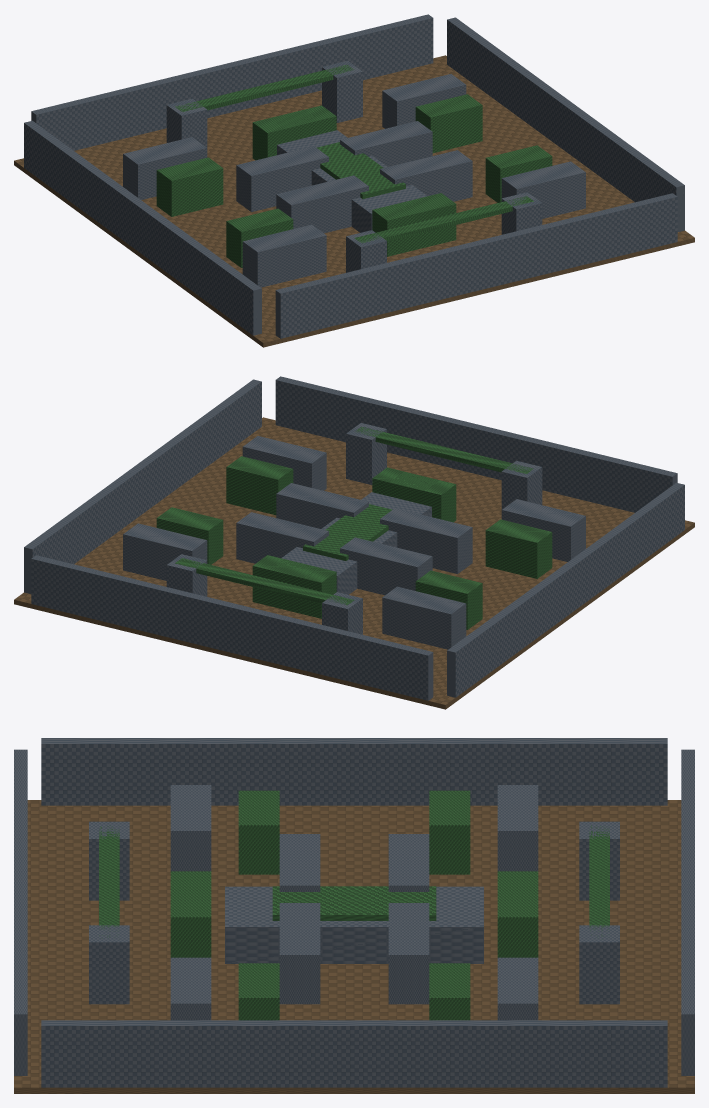
Rendered from fps_stage04.gltf.
3 renders of one model, top to bottom at view 1: azimuth 30°, elevation 25°; view 2: azimuth 150°, elevation 25°; view 3: azimuth 270°, elevation 25°, orthographic. The views are drawn at different scales.
Parts seen in each view (by area): view 1: Floor, SouthSeaWall, NorthSeaWall, WestSeaWall, EastSeaWall, Container_4_R, Container_5_R, Container_6_R, Container_2_R, Container_4_L, Container_6_L, Container_2_L (+19 smaller); view 2: Floor, NorthSeaWall, SouthSeaWall, WestSeaWall, EastSeaWall, Container_1_R, Container_6_R, Container_5_R, Container_3_R, Container_1_L, Container_5_L, Container_3_L (+19 smaller); view 3: Floor, EastSeaWall, WestSeaWall, ShipBody, NorthSeaWall, SouthSeaWall, Container_5_L, Container_6_L, ShipDeck, Container_1_R, Container_4_R, Container_2_R (+17 smaller).
Part boxes in pixels (x1,y1,x2,y2): Floor: (14, 55, 694, 347); SouthSeaWall: (275, 193, 677, 338); NorthSeaWall: (31, 14, 433, 150); WestSeaWall: (24, 120, 261, 335); EastSeaWall: (447, 17, 684, 231); Container_4_R: (242, 224, 326, 287); Container_5_R: (236, 146, 328, 211); Container_6_R: (276, 175, 368, 233); Container_2_R: (156, 157, 223, 216); Container_4_L: (501, 161, 585, 218); Container_6_L: (380, 150, 472, 201); Container_2_L: (415, 94, 482, 153); Floor: (14, 417, 694, 709); NorthSeaWall: (31, 555, 433, 700); SouthSeaWall: (275, 376, 677, 512); WestSeaWall: (447, 482, 684, 697); EastSeaWall: (24, 379, 261, 593); Container_1_R: (382, 586, 466, 649); Container_6_R: (380, 508, 472, 573); Container_5_R: (340, 537, 432, 595); Container_3_R: (485, 519, 552, 578); Container_1_L: (123, 523, 207, 580); Container_5_L: (236, 512, 328, 563); Container_3_L: (226, 456, 293, 515); Floor: (14, 800, 694, 1093); EastSeaWall: (41, 1020, 667, 1087); WestSeaWall: (41, 738, 667, 805); ShipBody: (225, 886, 483, 963); NorthSeaWall: (681, 749, 694, 1075); SouthSeaWall: (14, 749, 27, 1075); Container_5_L: (388, 903, 429, 1004); Container_6_L: (279, 903, 320, 1004); ShipDeck: (272, 886, 436, 920); Container_1_R: (497, 785, 538, 871); Container_4_R: (170, 785, 211, 871); Container_2_R: (429, 790, 470, 874).
Size of the model in its own units: 100 by 11 by 100.
